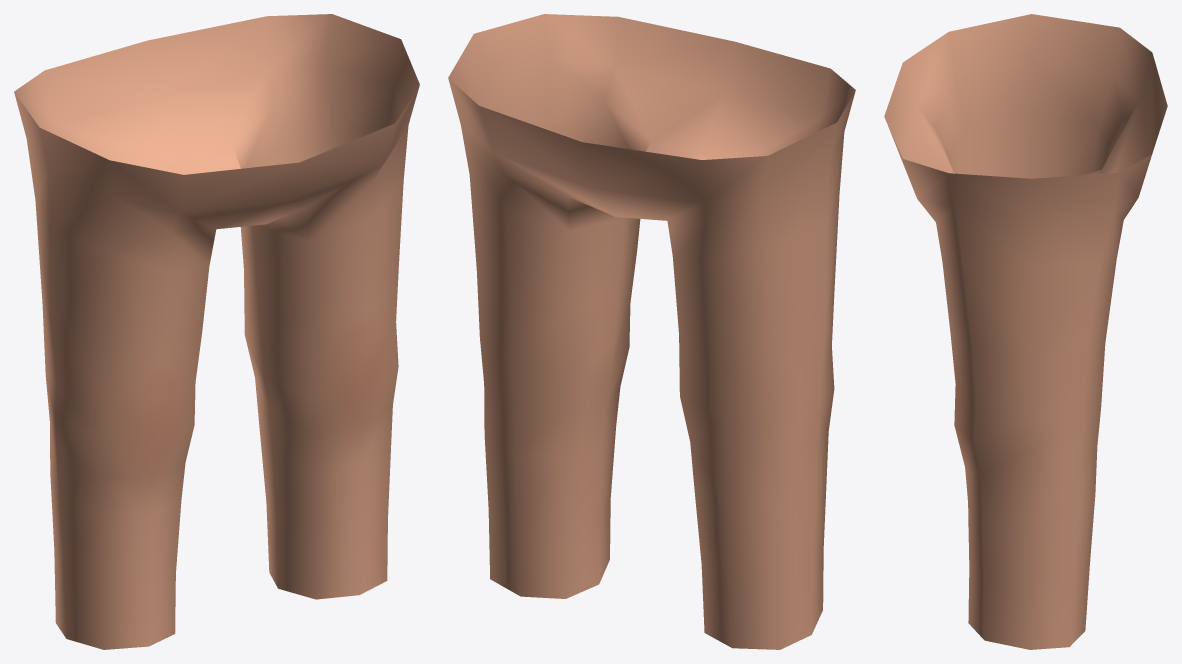
File: Body_Yellow_Bottom_2.fbx
3 renders of one model, left to right at view 1: azimuth 30°, elevation 25°; view 2: azimuth 150°, elevation 25°; view 3: azimuth 270°, elevation 25°, orthographic. The views are drawn at different scales.
Visible parts, largest first — view 1: Body_Yellow_Bottom_2; view 2: Body_Yellow_Bottom_2; view 3: Body_Yellow_Bottom_2.
Boxes of the visible parts, <box> form: Body_Yellow_Bottom_2: <box>14,14,419,649</box>; Body_Yellow_Bottom_2: <box>448,14,855,649</box>; Body_Yellow_Bottom_2: <box>884,14,1167,649</box>.
Size of the model in its own units: 34.87 by 48 by 25.35.
